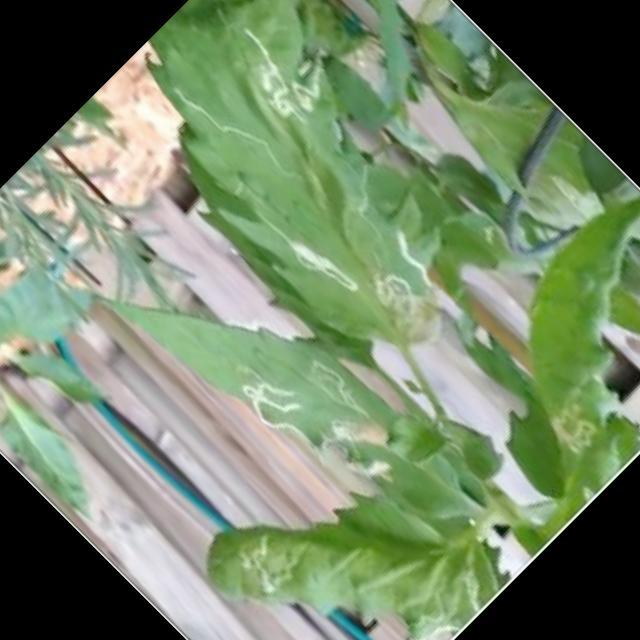Tomato target spot leaf: (149, 0, 438, 342), (98, 294, 385, 448)
